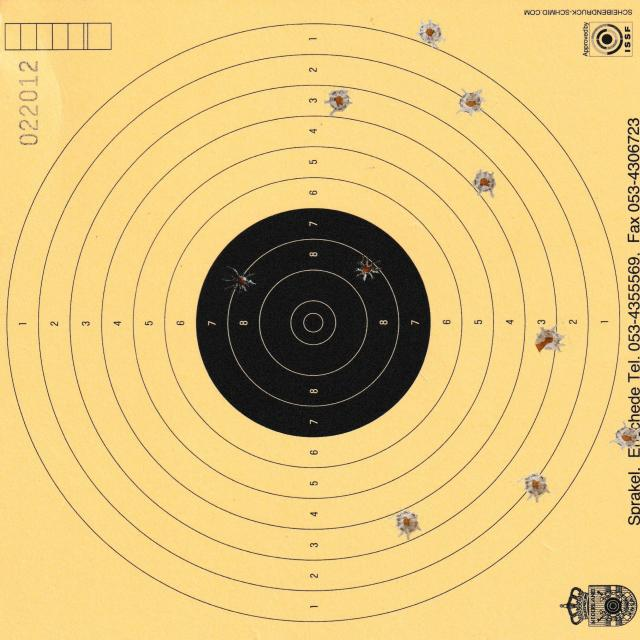0: (610, 420, 640, 456), (416, 20, 446, 47)
2: (518, 472, 552, 502), (456, 88, 487, 117)
3: (533, 325, 566, 356), (325, 85, 355, 118), (393, 510, 423, 539)
4: (472, 168, 498, 198)
8: (221, 265, 257, 293), (352, 255, 382, 282)
Target: (5, 20, 625, 625)
black_contour: (197, 207, 431, 437)
